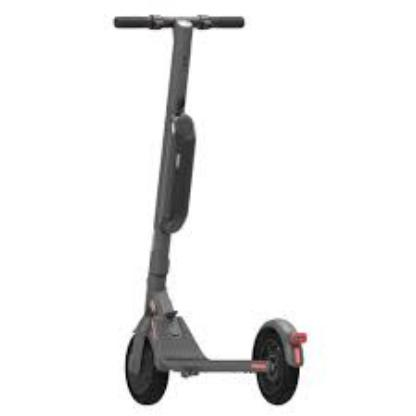bike: (122, 10, 309, 408)
